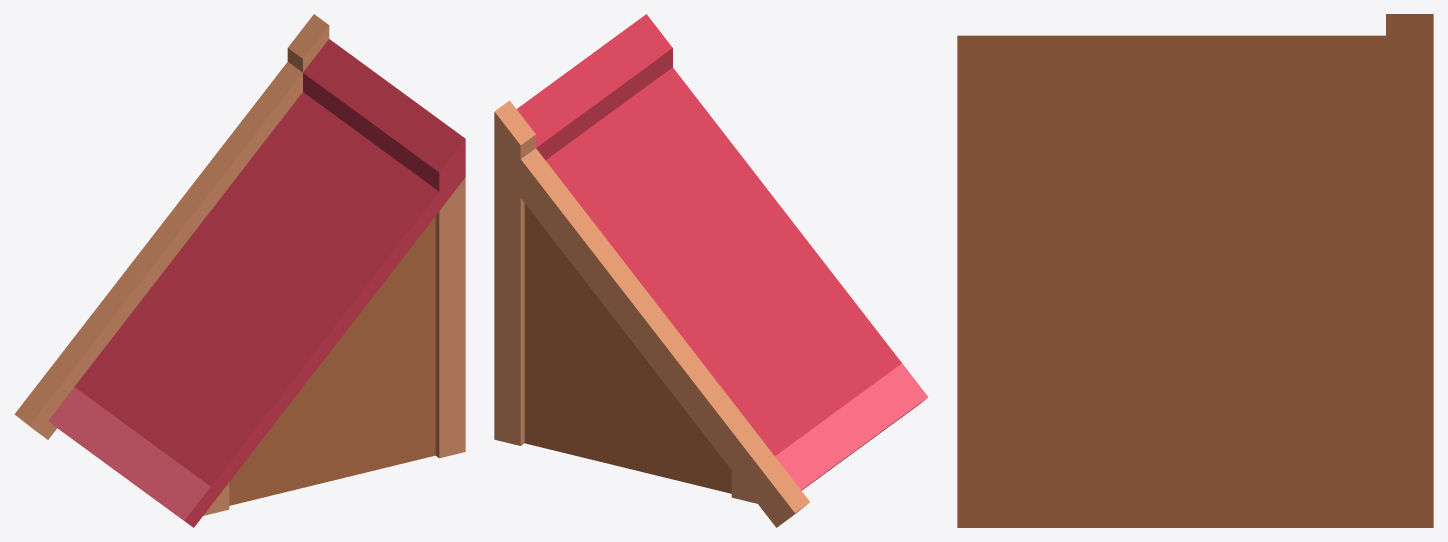
File: roofHighLeft.obj
3 renders of one model, left to right at view 1: azimuth 30°, elevation 25°; view 2: azimuth 150°, elevation 25°; view 3: azimuth 270°, elevation 25°, orthographic. The views are drawn at different scales.
Parts seen in each view (by area): view 1: roofHighLeft; view 2: roofHighLeft; view 3: roofHighLeft.
Part boxes in pixels (<box>): roofHighLeft: <box>14,14,465,527</box>; roofHighLeft: <box>494,14,927,527</box>; roofHighLeft: <box>957,14,1433,527</box>.
Bounding box in the file's own units: 1.14 × 1.26 × 1.
